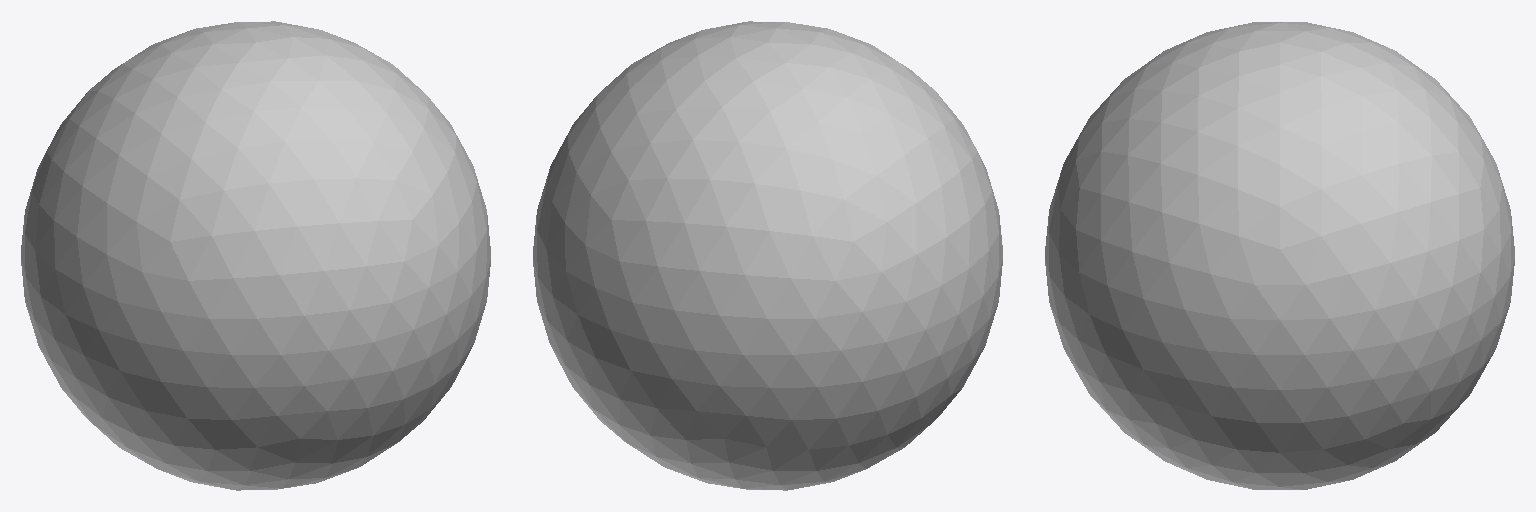
Rendered from BallStone.obj.
3 views of the same model, side by side, from view 1: azimuth 30°, elevation 25°; view 2: azimuth 150°, elevation 25°; view 3: azimuth 270°, elevation 25° (orthographic).
Visible parts, largest first — view 1: Ball_Stone; view 2: Ball_Stone; view 3: Ball_Stone.
Boxes of the visible parts, x1=… form: Ball_Stone: x1=21, y1=21, x2=490, y2=490; Ball_Stone: x1=533, y1=21, x2=1002, y2=490; Ball_Stone: x1=1045, y1=22, x2=1514, y2=489.
Size of the model in its own units: 3.98 by 4 by 4.